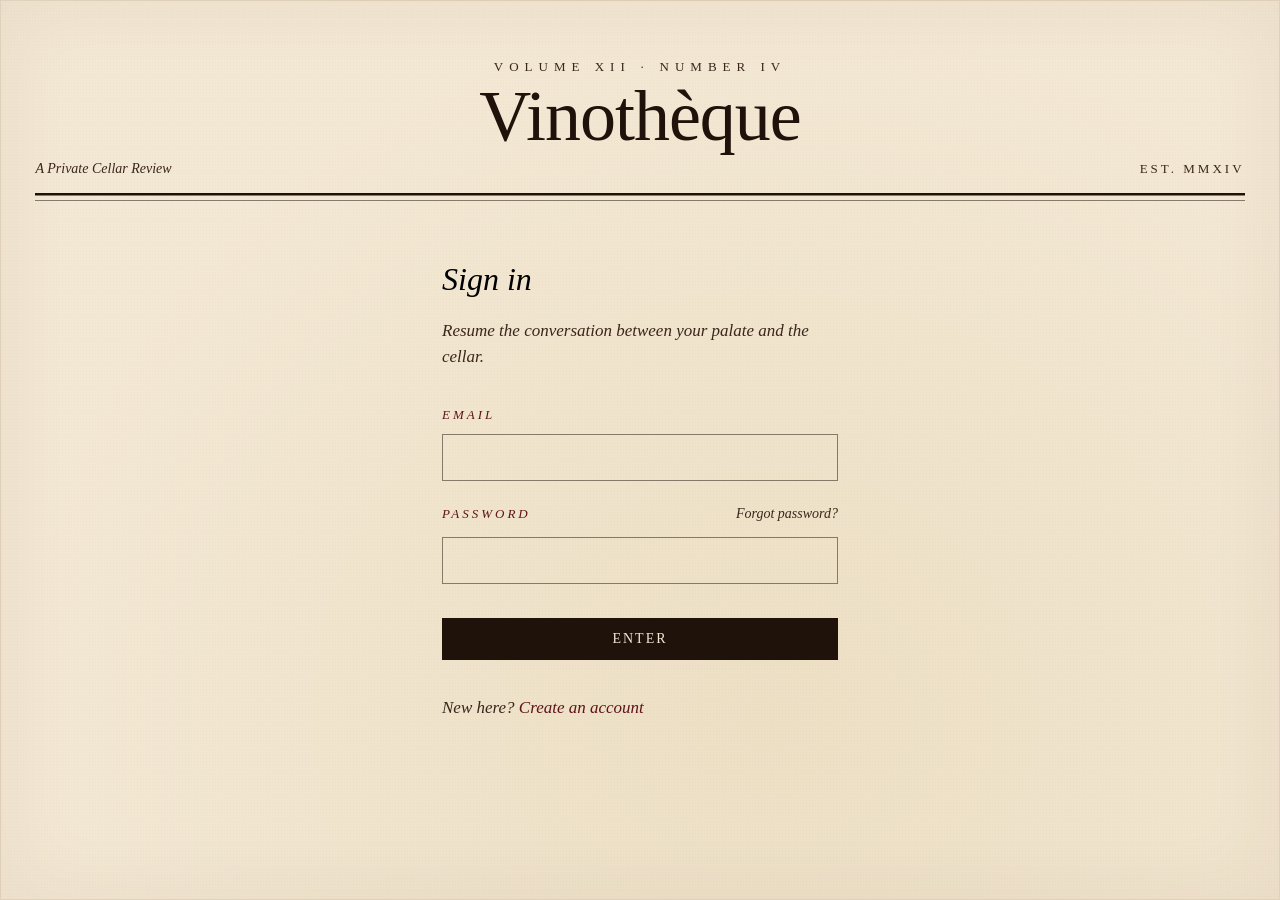
Test: Login page › surfaces a failure message when the server returns 401
Type "alice@example.com" into the field labelled "Email".
click(640, 458); type("alice@example.com")  # box 442,434 -> 838,481
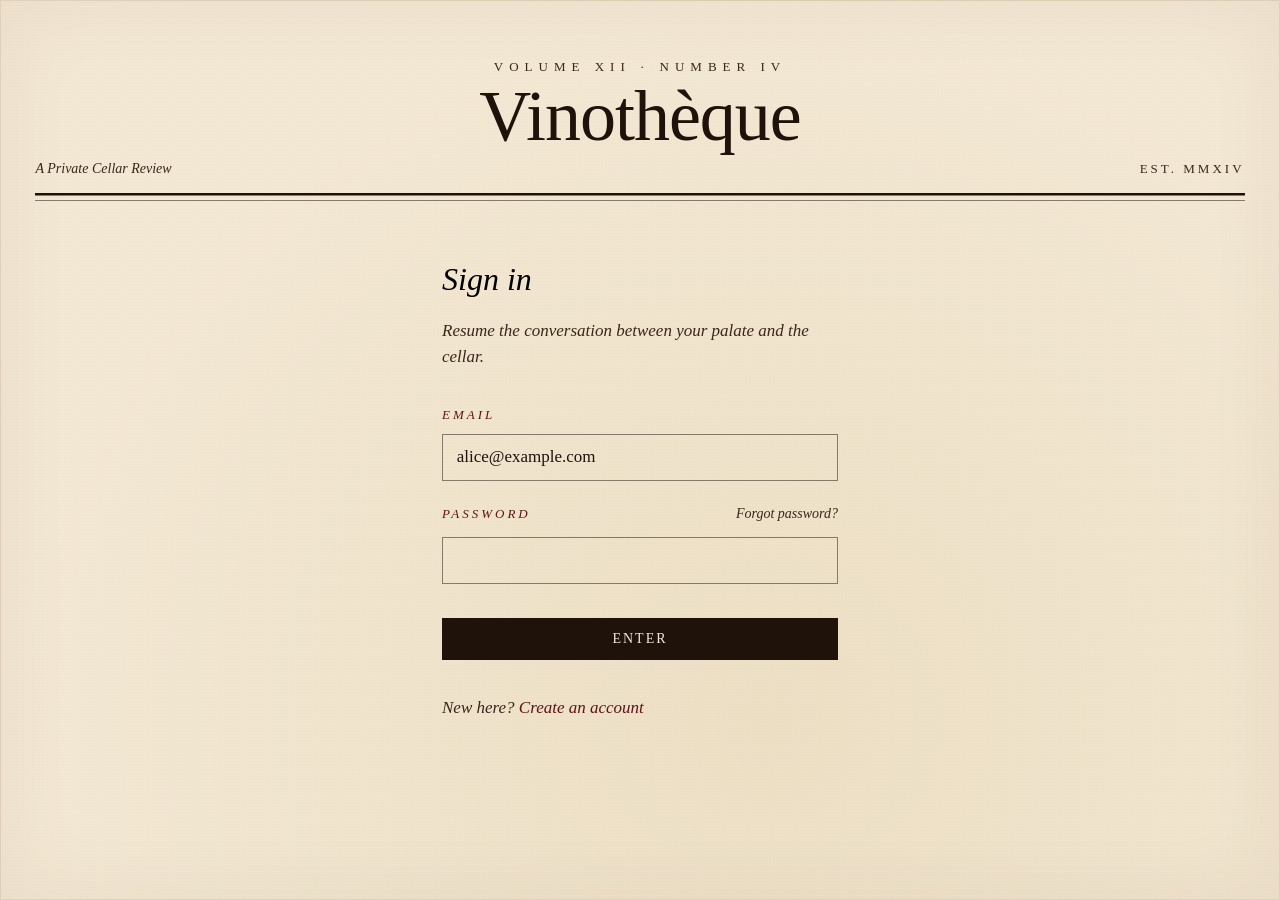
Type "wrong" into the password field labelled "Password".
click(640, 560); type("wrong")  # box 442,537 -> 838,584
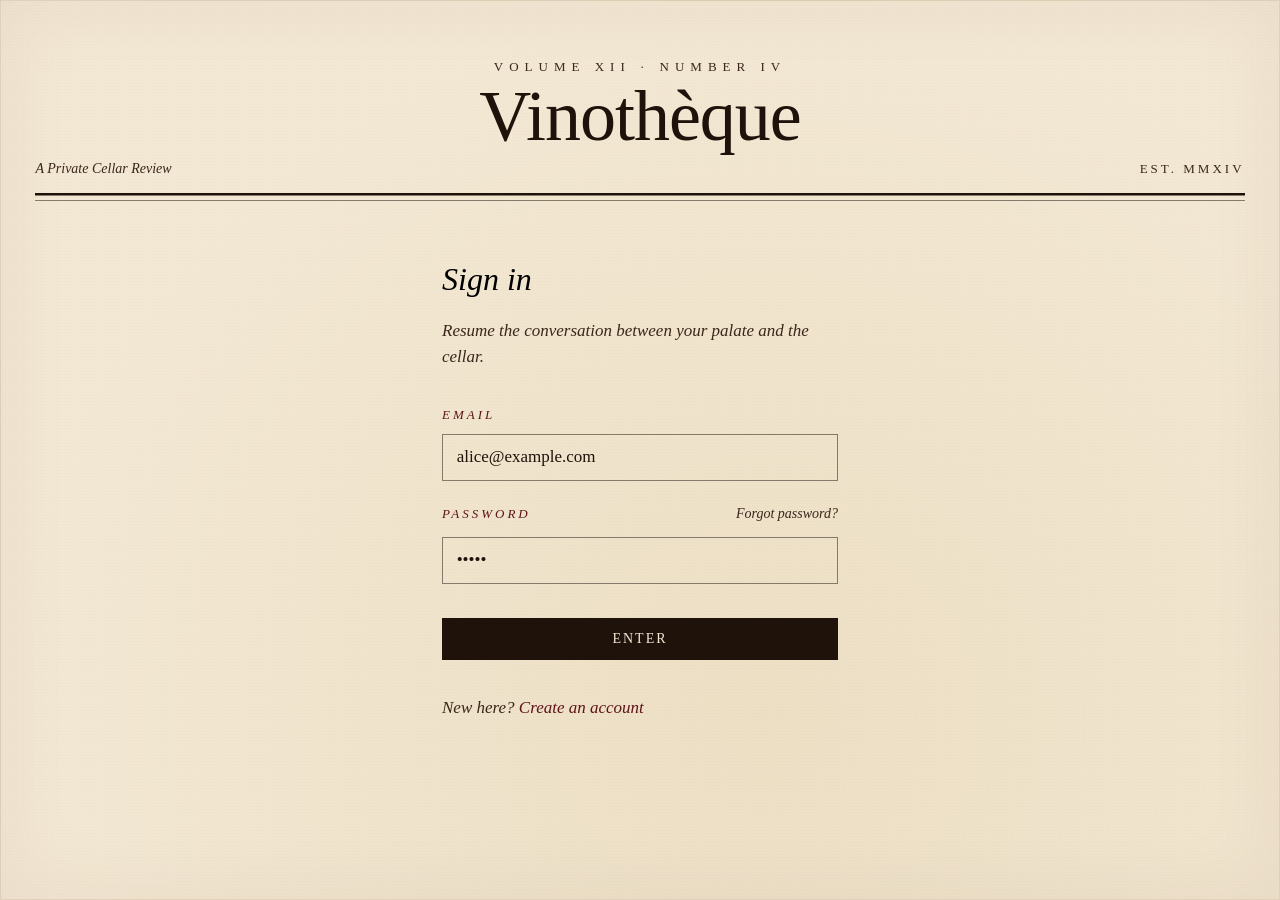
Click the button "Enter".
click(640, 639)  # box 442,618 -> 838,660
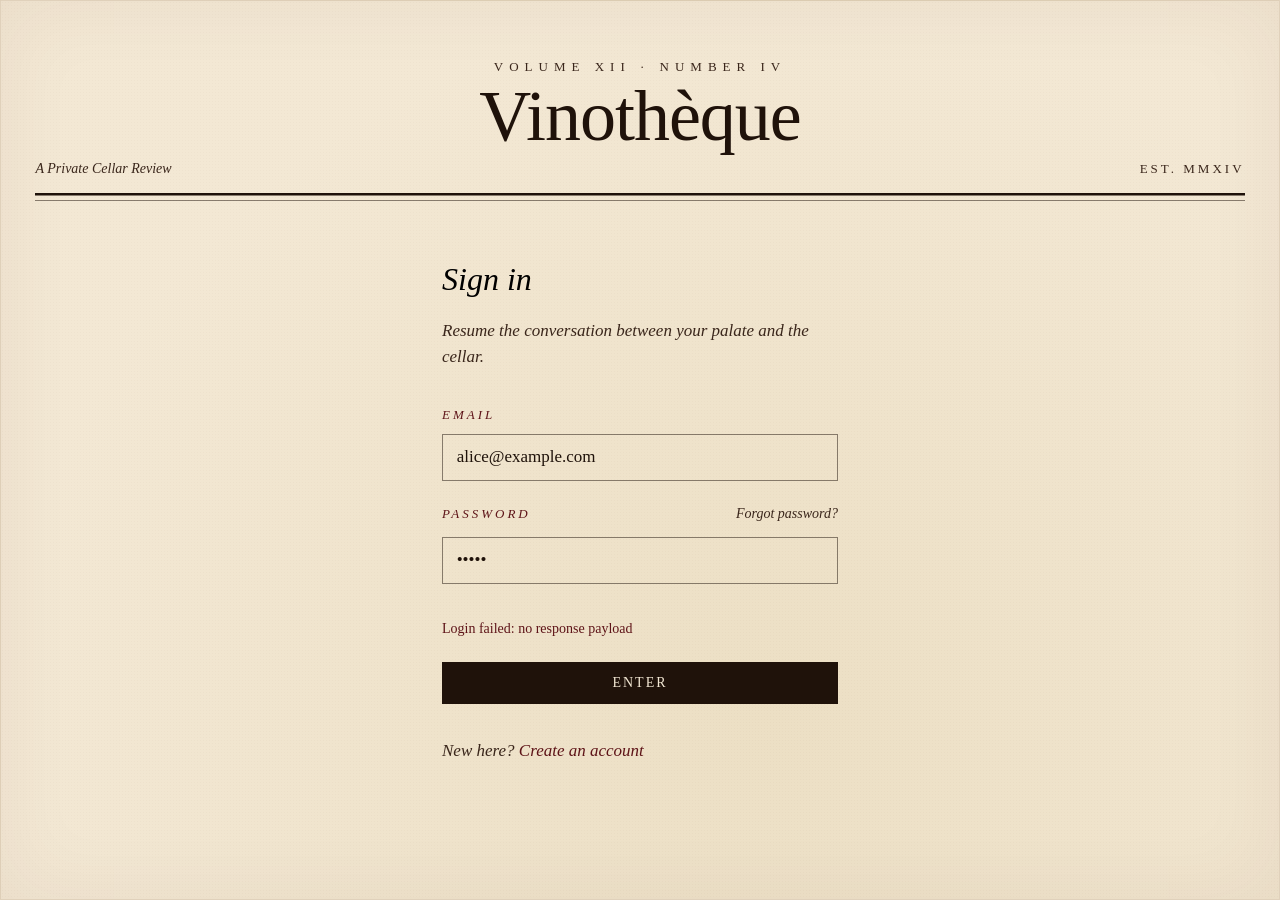
Result: the text "Login failed: no response payload" is shown at 442,621 -> 632,636
